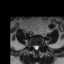CCS_normal: (35, 42, 37, 52)
LFS_stenosis: (39, 42, 41, 48)
LLS_normal: (37, 42, 39, 50)
RFS_stenosis: (31, 42, 33, 48)
RLS_normal: (33, 43, 35, 50)
